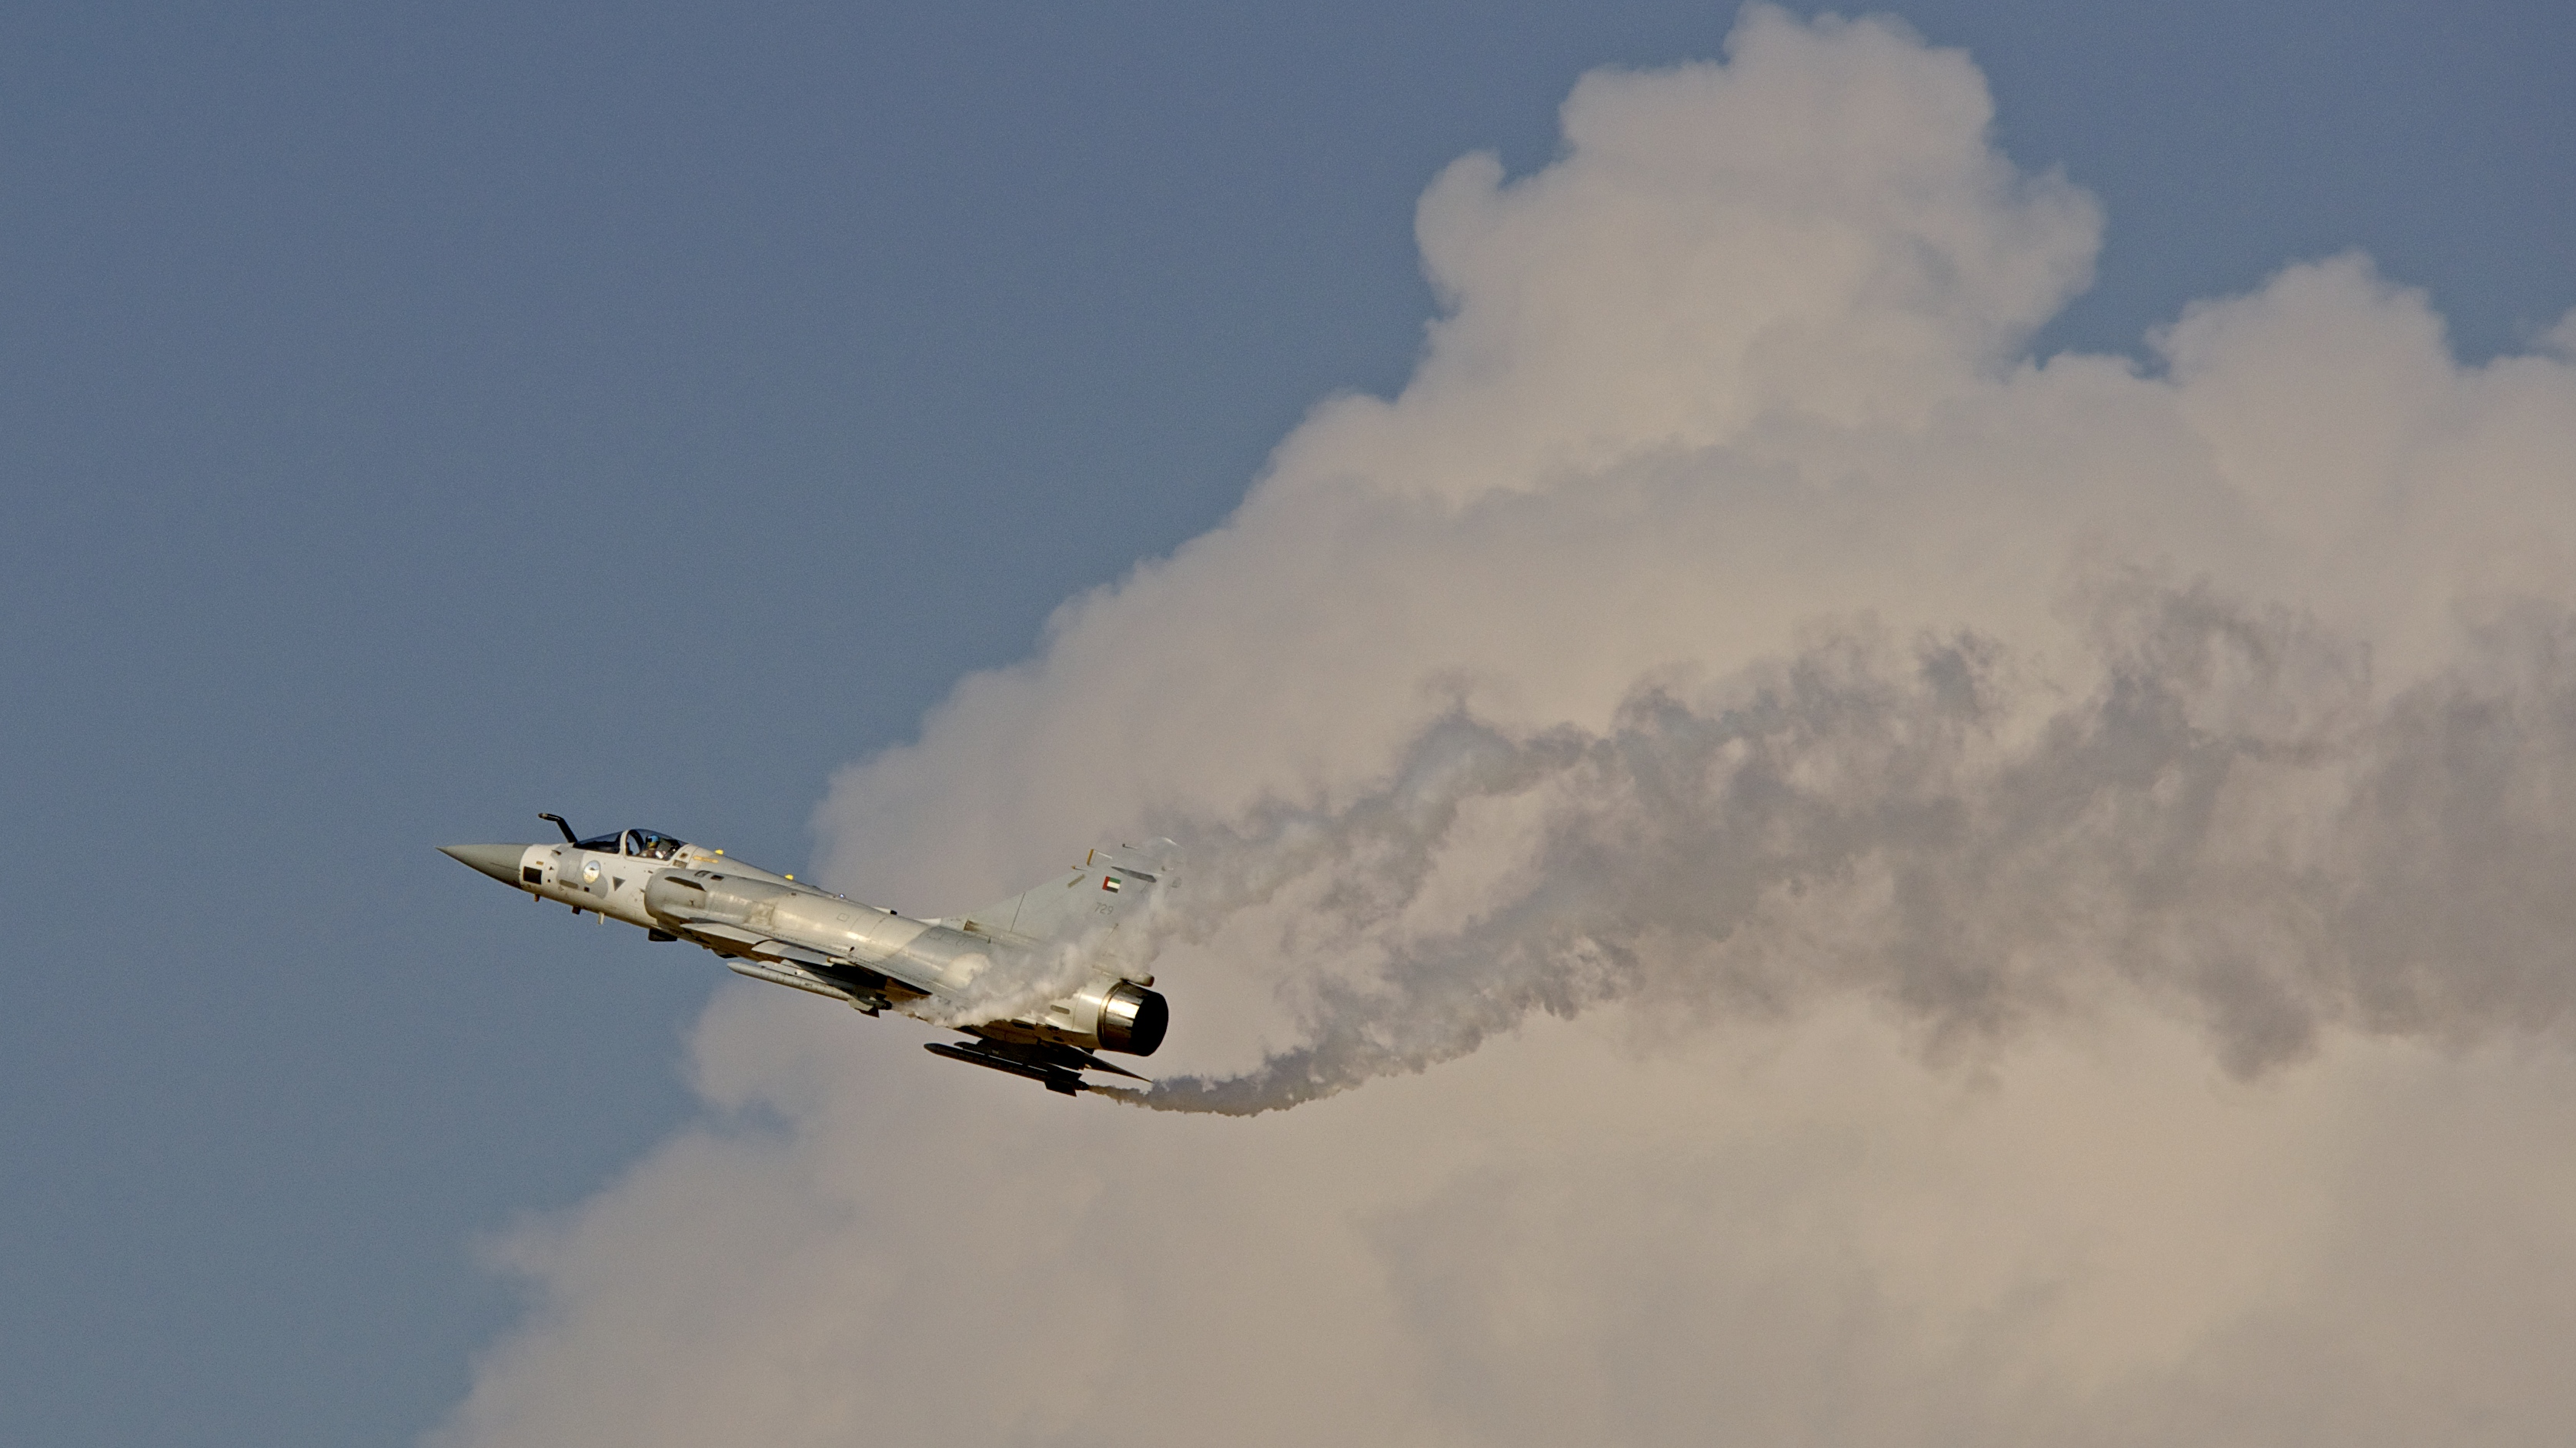Mirage2000: (432, 812, 1184, 1096)
